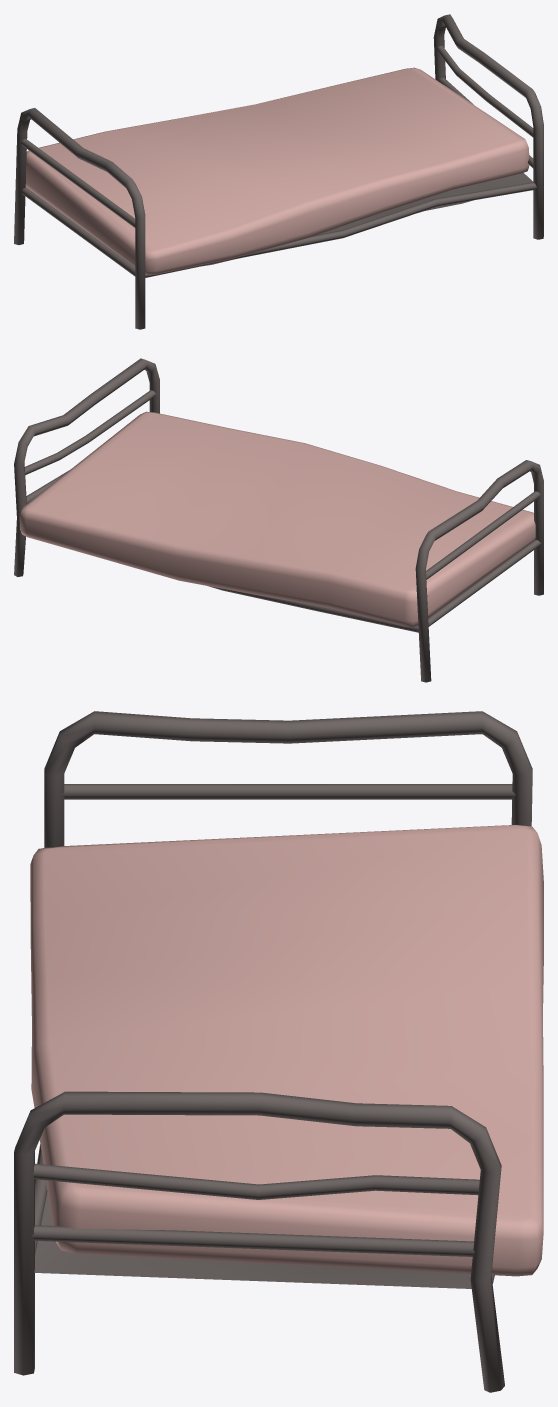
The model's file is bed.fbx.
The picture shows the model from 3 angles, top to bottom: view 1: azimuth 30°, elevation 25°; view 2: azimuth 150°, elevation 25°; view 3: azimuth 270°, elevation 25°; orthographic projection. The views are drawn at different scales.
Visible parts, largest first — view 1: Gotham_Objects_Mattress, Gotham_Objects_Bedframe; view 2: Gotham_Objects_Mattress, Gotham_Objects_Bedframe; view 3: Gotham_Objects_Mattress, Gotham_Objects_Bedframe.
Boxes of the visible parts, x1,y1,x2,y2 form: Gotham_Objects_Mattress: [25, 67, 529, 275]; Gotham_Objects_Bedframe: [14, 14, 543, 329]; Gotham_Objects_Mattress: [19, 411, 535, 627]; Gotham_Objects_Bedframe: [14, 358, 543, 682]; Gotham_Objects_Mattress: [30, 825, 543, 1276]; Gotham_Objects_Bedframe: [14, 711, 532, 1392].
Size of the model in its own units: 14.7 by 4.65 by 8.03.
